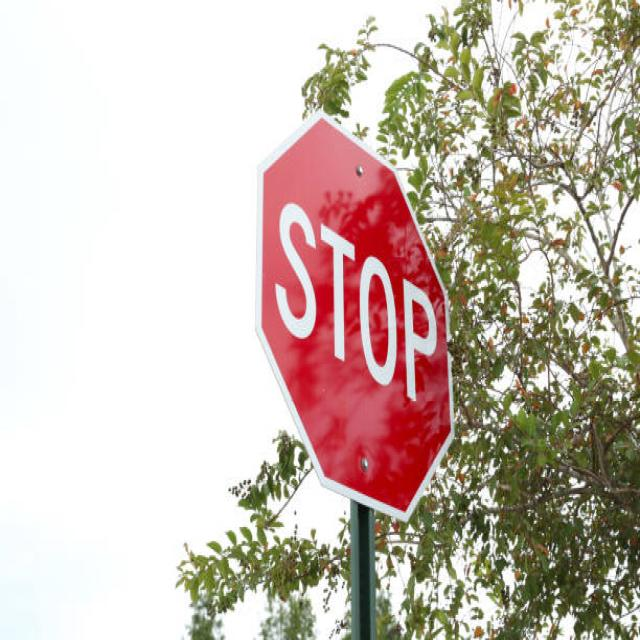stop: (247, 114, 469, 527)
